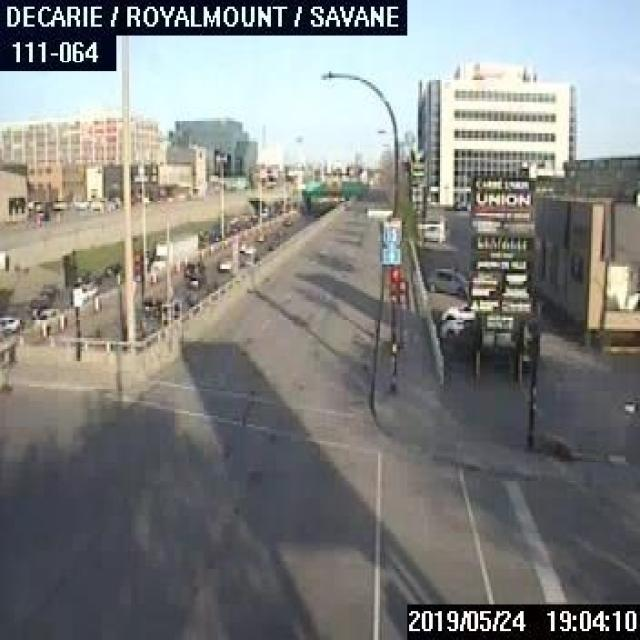vehicle: (151, 229, 199, 269), (437, 302, 475, 340), (426, 262, 468, 296), (0, 311, 18, 331)
